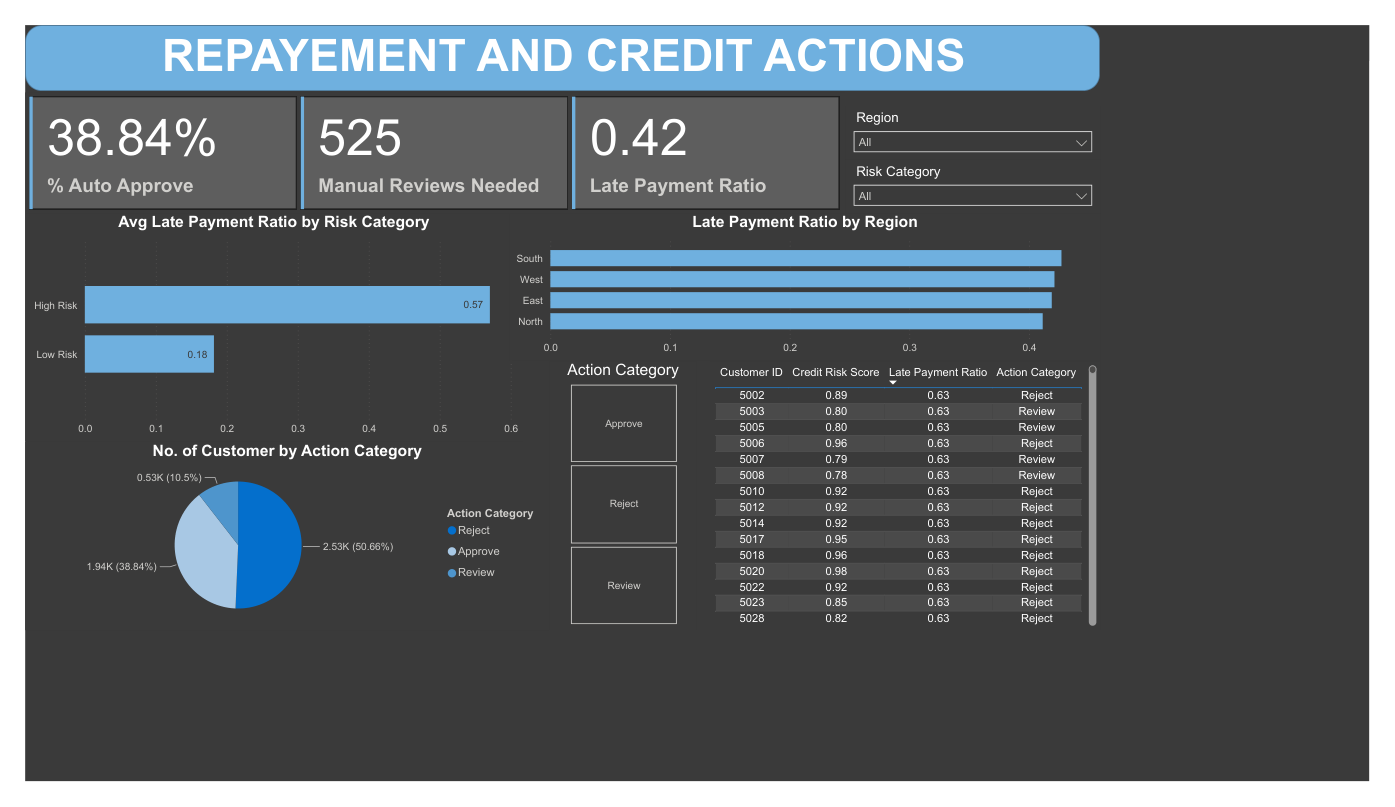

The dashboard page shown, as its layout file describes it:
{"tool":"powerbi","page":{"name":"Page 3","canvas":[1280,720],"ordinal":2},"visuals":[{"type":"shape","box":[0,0,1279.4,78.3],"z":0,"group":"g1"},{"type":"clusteredBarChart","title":"Avg Late Payment Ratio by Risk Category","fields":{"Category":["customers.Risk Category"],"Y":["Avg(credit_risk_project customer_features.late_payment_ratio)"]},"box":[0,224,592,272],"z":0},{"type":"textbox","box":[17,0,1247.3,78.3],"z":1000,"group":"g1"},{"type":"tableEx","fields":{"Values":["customers.customer_id","customers.Avg Credit Risk Score","Sum(credit_risk_project customer_features.late_payment_ratio)","credit_risk_project credit_scores.Action Category"]},"box":[816,400,464,320],"z":1000},{"type":"pieChart","fields":{"Category":["credit_risk_project credit_scores.Action Category"],"Y":["CountNonNull(credit_risk_project credit_scores.customer_id)"]},"box":[0,496,624,224],"z":2000},{"type":"slicer","title":"Action Category","fields":{"Values":["credit_risk_project credit_scores.Action Category"]},"box":[624,400,176,320],"z":3000},{"type":"slicer","fields":{"Values":["customers.region"]},"box":[976,96,304,80],"z":4000},{"type":"slicer","fields":{"Values":["customers.Risk Category"]},"box":[976,160,304,64],"z":5000},{"type":"cardVisual","fields":{"Data":["credit_risk_project credit_scores.% Auto Approve","credit_risk_project credit_scores.Manual Reviews Needed","Avg(credit_risk_project customer_features.late_payment_ratio)"]},"box":[0,80,976,144],"z":6000},{"type":"group","id":"g1","title":"Group 1","box":[0,0,1280,80],"z":7000},{"type":"clusteredBarChart","fields":{"Category":["credit_risk_project customer_features.region"],"Y":["Avg(credit_risk_project customer_features.late_payment_ratio)"]},"box":[576,224,704,176],"z":8000}]}

Visuals, with their boxes in screenshot pixels (x1, y1, x2, y2), scaled from the page's 1280x720 canvas onto the 1395x807 screenshot:
shape: pyautogui.locateOnScreen(0, 0, 1394, 88)
"Avg Late Payment Ratio by Risk Category" clusteredBarChart: pyautogui.locateOnScreen(0, 251, 645, 556)
textbox: pyautogui.locateOnScreen(19, 0, 1378, 88)
tableEx - customers.customer_id x customers.Avg Credit Risk Score: pyautogui.locateOnScreen(889, 448, 1394, 806)
pieChart - credit_risk_project credit_scores.Action Category x CountNonNull(credit_risk_project credit_scores.customer_id): pyautogui.locateOnScreen(0, 556, 680, 806)
"Action Category" slicer: pyautogui.locateOnScreen(680, 448, 872, 806)
slicer - customers.region: pyautogui.locateOnScreen(1064, 108, 1394, 197)
slicer - customers.Risk Category: pyautogui.locateOnScreen(1064, 179, 1394, 251)
cardVisual - credit_risk_project credit_scores.% Auto Approve x credit_risk_project credit_scores.Manual Reviews Needed: pyautogui.locateOnScreen(0, 90, 1064, 251)
"Group 1" group: pyautogui.locateOnScreen(0, 0, 1394, 90)
clusteredBarChart - credit_risk_project customer_features.region x Avg(credit_risk_project customer_features.late_payment_ratio): pyautogui.locateOnScreen(628, 251, 1394, 448)
